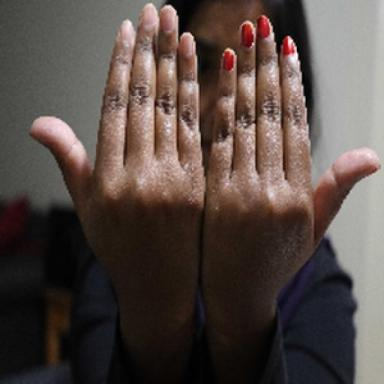normal skin: (31, 0, 379, 384)
